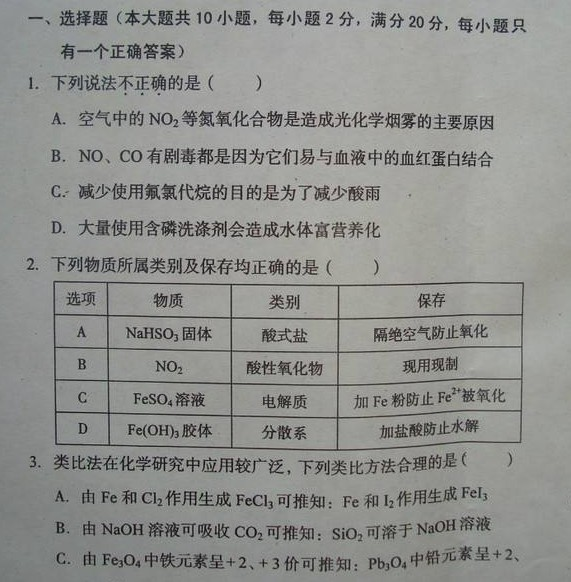text: (24, 448, 528, 481), (26, 9, 541, 34), (49, 144, 496, 171), (50, 548, 524, 573), (49, 108, 504, 134), (74, 386, 513, 411), (54, 487, 493, 511), (50, 517, 498, 539), (75, 418, 487, 441), (74, 322, 501, 344), (73, 352, 467, 375), (62, 289, 453, 311), (49, 218, 385, 243), (25, 256, 387, 277), (50, 181, 385, 202), (21, 74, 275, 94), (58, 39, 189, 63)
